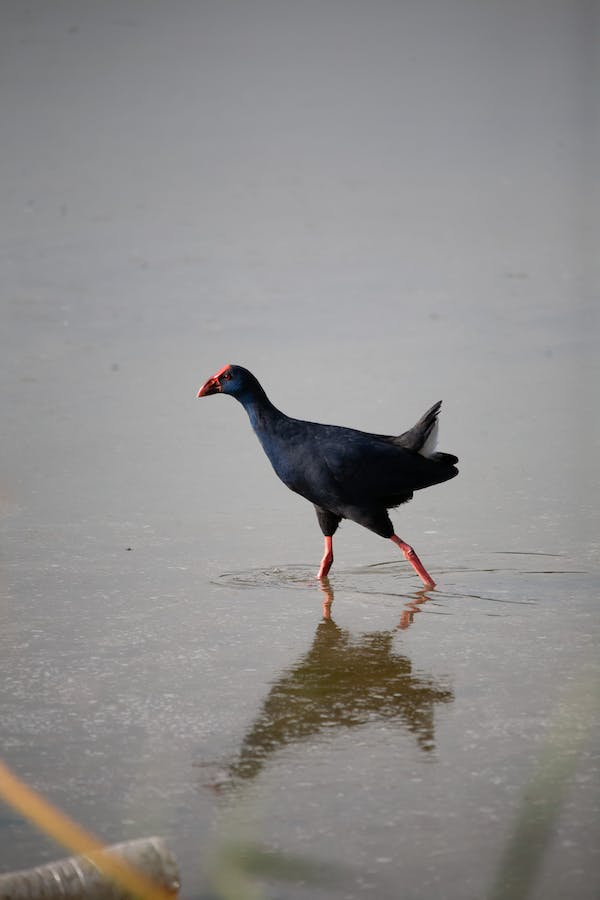Walking: (169, 326, 495, 635)
